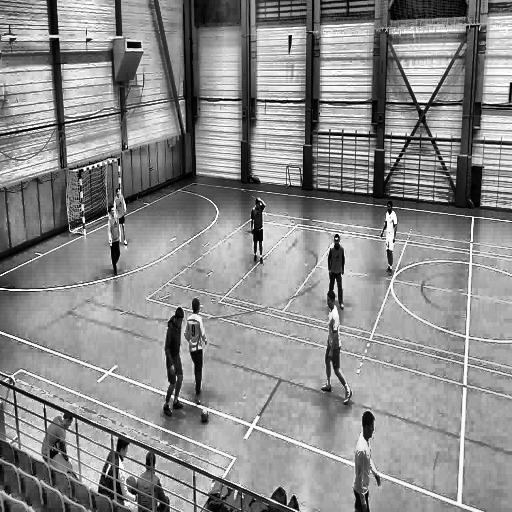ball: (200, 406, 210, 424)
player: (320, 292, 353, 407), (353, 409, 380, 512), (184, 298, 207, 406), (163, 305, 184, 418), (380, 200, 398, 278), (326, 234, 344, 310), (106, 206, 122, 277), (250, 194, 266, 264), (114, 186, 128, 248)
